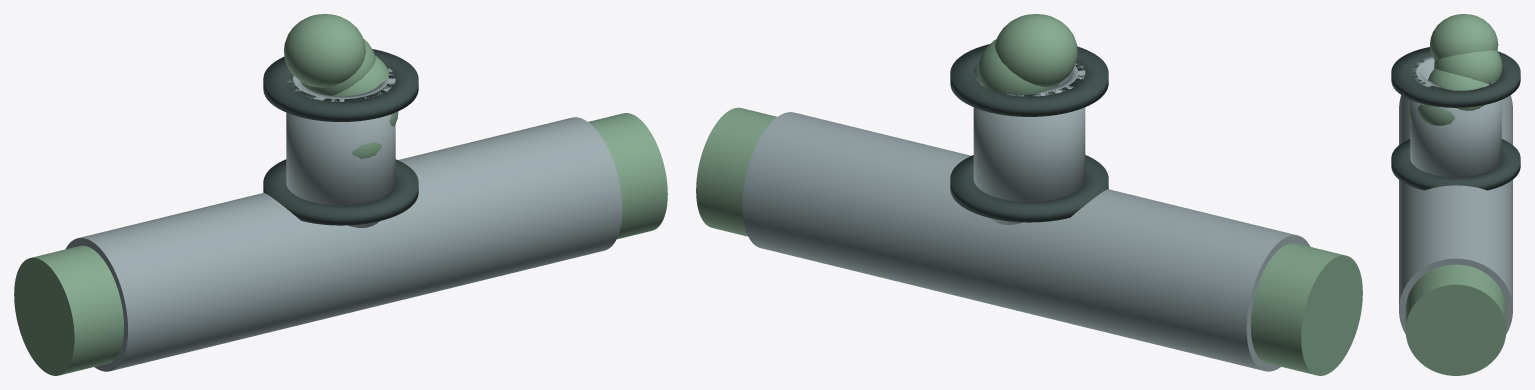
Rendered from vent.glb.
3 renders of one model, left to right at view 1: azimuth 30°, elevation 25°; view 2: azimuth 150°, elevation 25°; view 3: azimuth 270°, elevation 25°, orthographic. The views are drawn at different scales.
Parts seen in each view (by area): view 1: Barrel.001, Strand.002, Vent port.001, Vent flange.003, Melt at vent.004, Vent flange.002, Strand, Strand.003, Melt at vent.003, Melt at vent.002, Strand.001; view 2: Barrel.001, Strand.002, Vent port.001, Vent flange.003, Melt at vent.004, Vent flange.002, Strand.003, Strand, Melt at vent.003, Strand.001; view 3: Barrel.001, Strand.002, Vent port.001, Vent flange.003, Vent flange.002, Melt at vent.004, Strand, Strand.003, Melt at vent.003, Strand.001, Melt at vent.002, Melt at vent.001.
Boxes of the visible parts, <box> form: Barrel.001: <box>66,117,622,371</box>; Strand.002: <box>14,113,667,375</box>; Vent port.001: <box>286,68,395,227</box>; Vent flange.003: <box>263,49,418,121</box>; Melt at vent.004: <box>284,14,365,87</box>; Vent flange.002: <box>263,159,418,225</box>; Strand: <box>15,260,74,375</box>; Strand.003: <box>14,116,636,370</box>; Melt at vent.003: <box>300,39,375,95</box>; Melt at vent.002: <box>332,55,389,96</box>; Strand.001: <box>15,115,635,356</box>; Barrel.001: <box>742,112,1310,371</box>; Strand.002: <box>696,107,1362,375</box>; Vent port.001: <box>973,63,1085,224</box>; Vent flange.003: <box>950,44,1108,116</box>; Melt at vent.004: <box>995,14,1077,87</box>; Vent flange.002: <box>950,155,1108,222</box>; Strand.003: <box>726,113,1327,375</box>; Strand: <box>1301,256,1361,375</box>; Melt at vent.003: <box>978,39,1058,94</box>; Strand.001: <box>724,113,1328,374</box>; Barrel.001: <box>1399,95,1512,334</box>; Strand.002: <box>1405,264,1506,375</box>; Vent port.001: <box>1410,55,1501,177</box>; Vent flange.003: <box>1391,47,1520,107</box>; Vent flange.002: <box>1391,139,1520,190</box>; Melt at vent.004: <box>1430,14,1498,60</box>; Strand: <box>1405,284,1504,375</box>; Strand.003: <box>1456,265,1505,375</box>; Melt at vent.003: <box>1434,50,1502,83</box>; Strand.001: <box>1456,265,1505,375</box>; Melt at vent.002: <box>1428,69,1488,110</box>; Melt at vent.001: <box>1417,79,1455,125</box>.
Size of the model in its own units: 6 by 2.78 by 1.36.
